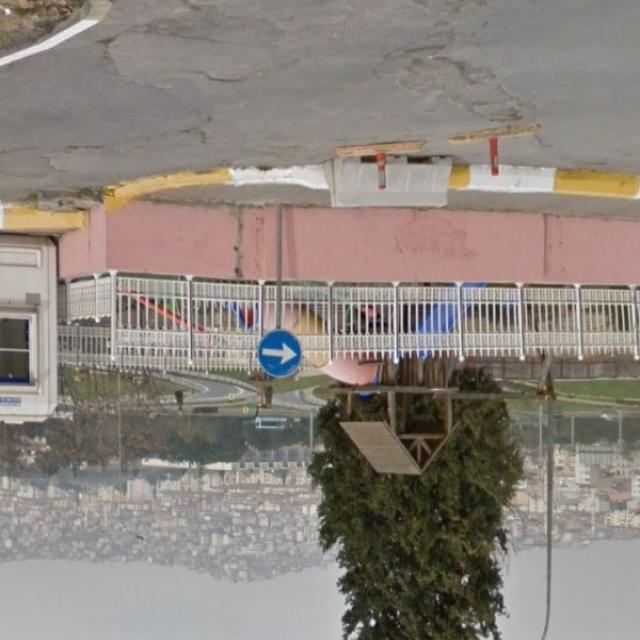Turn Right: (255, 333, 307, 380)
